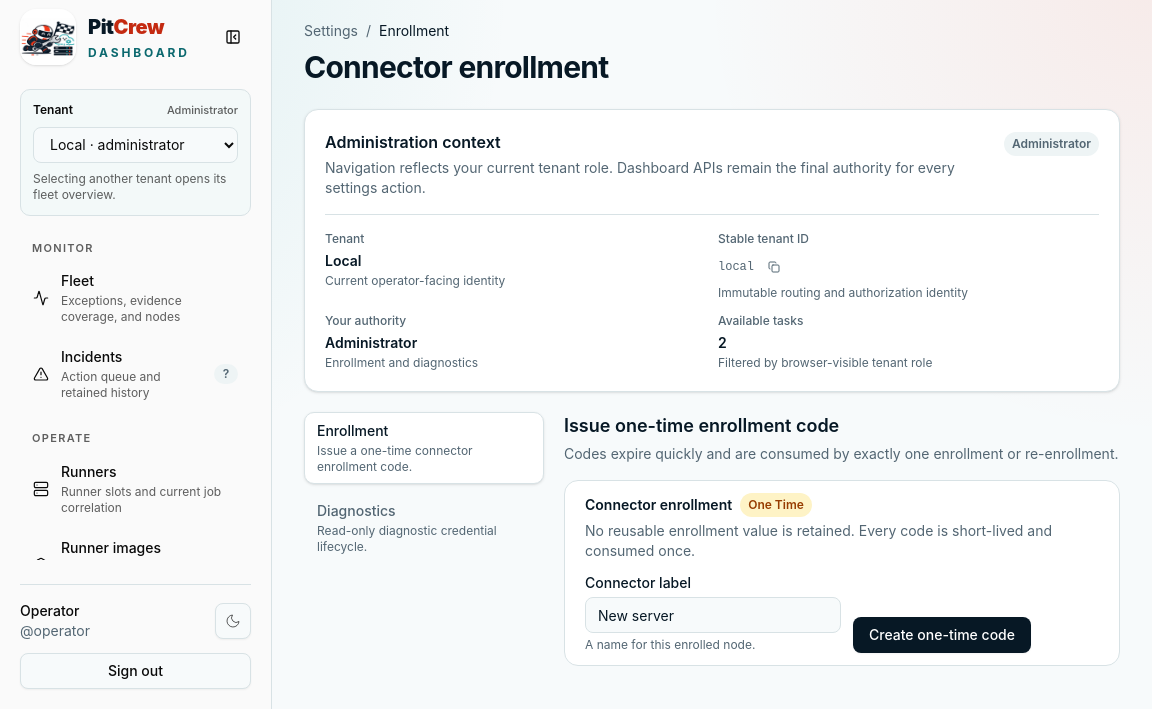
Test: authenticated routing › allows an administrator to reach enrollment settings
The width and height of the screenshot is (1152, 709).
Expected: the heading "Issue one-time enrollment code" is shown, [564,415,839,436]
Click the button "Create one-time code": [942, 635] box [853,617,1031,653]
(page scrolled)
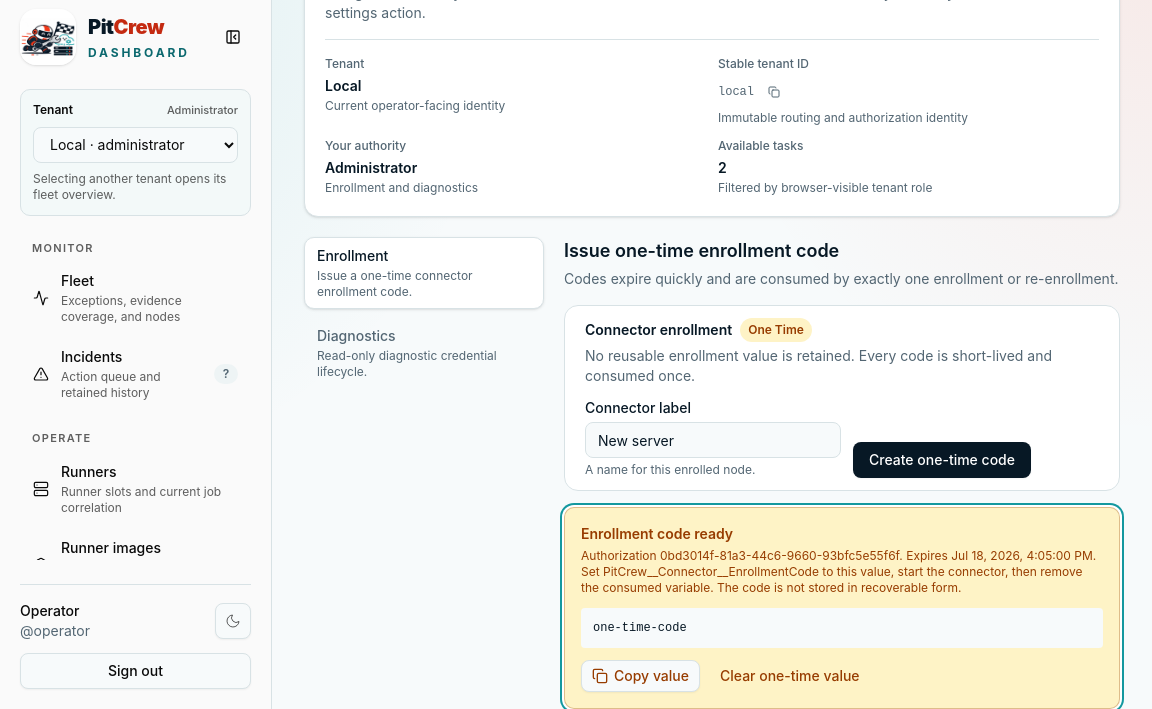
Now the text "one-time-code" is shown, box [581,608,1103,648]
Now the button "Copy value" is shown, box [581,660,700,692]
Now the text "PitCrew__Connector__EnrollmentCode" is shown, box [581,548,1096,595]
